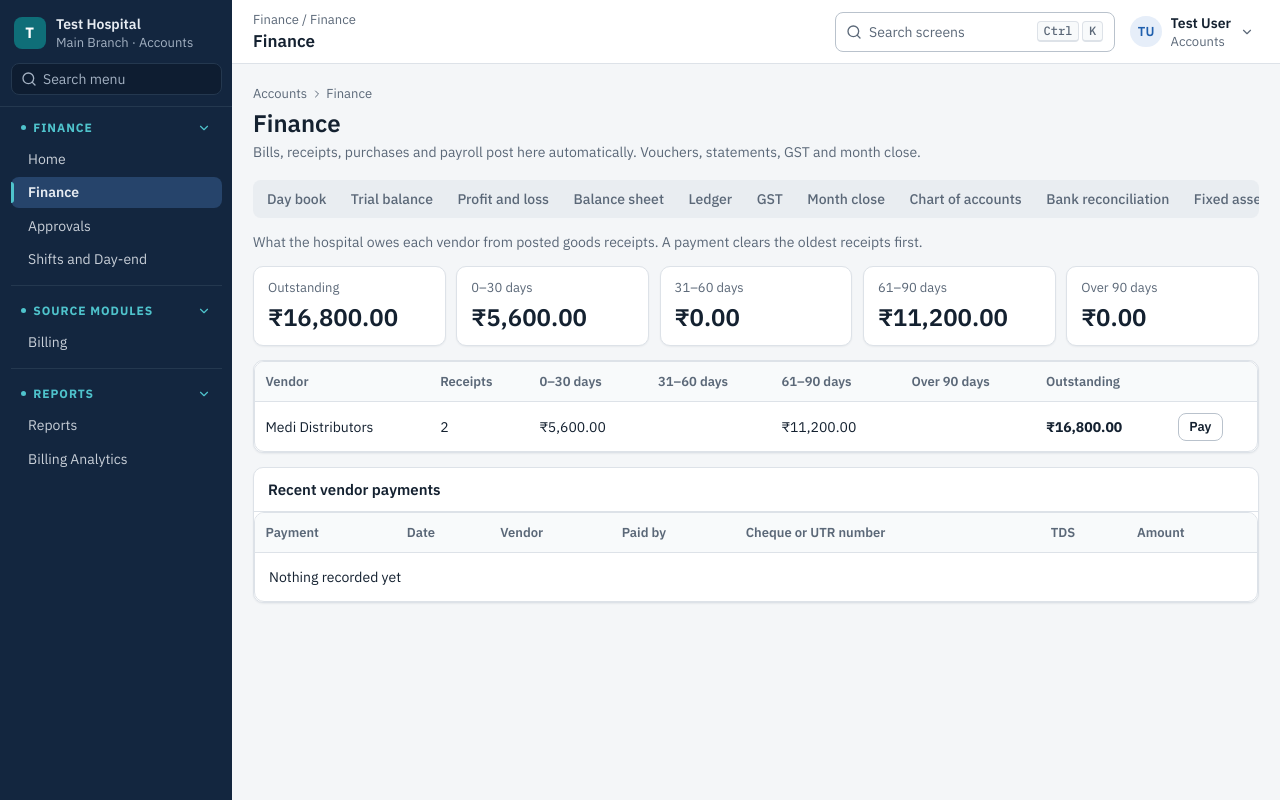
Test: Finance sub-ledgers › shows aged payables and pays a vendor
The width and height of the screenshot is (1280, 800).
Expected: the text "Medi Distributors" is shown, [255, 402, 430, 451]
Click the button "Pay" at [1200, 426], box [1178, 412, 1223, 440]
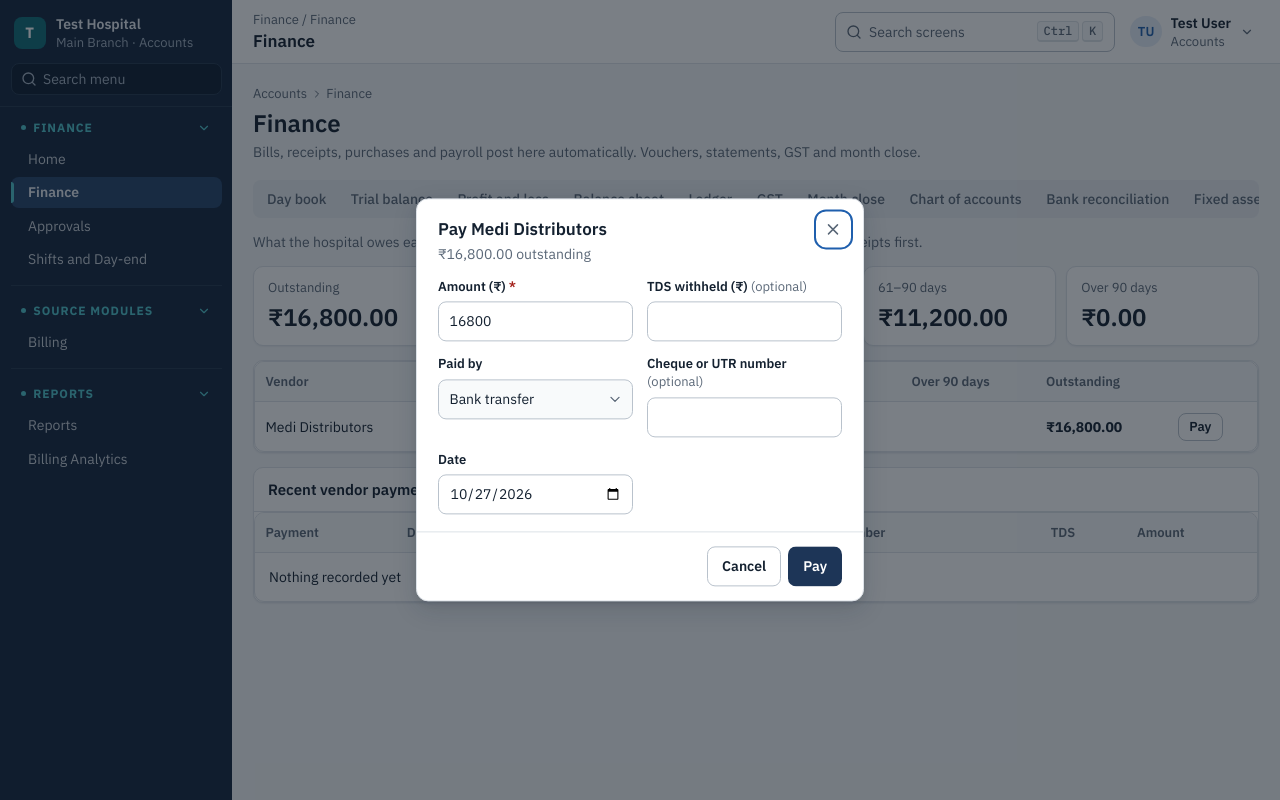
Replace the text in the field labelled "Amount (₹) *" with "12000" at [536, 322], box [438, 302, 633, 342]
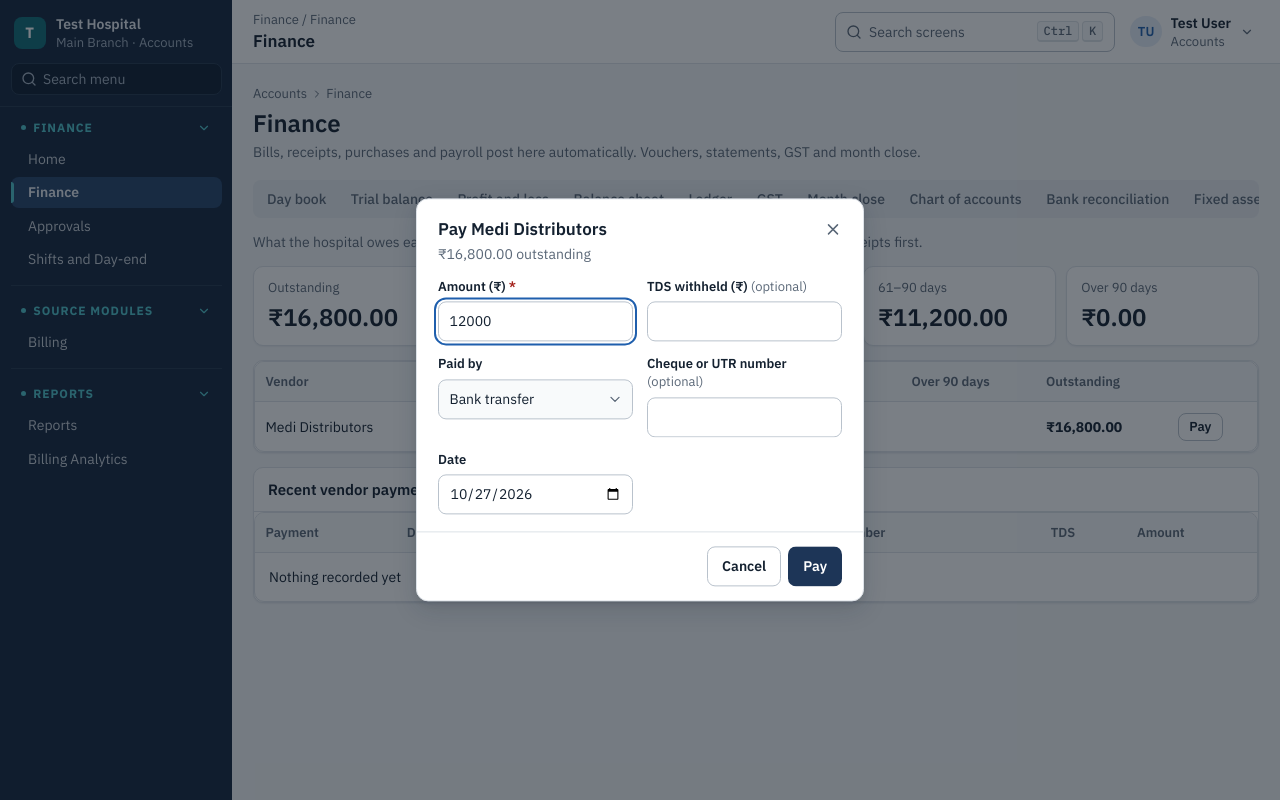
Type "200" into the field labelled "TDS withheld (₹) (optional)" at [744, 322], box [647, 302, 842, 342]
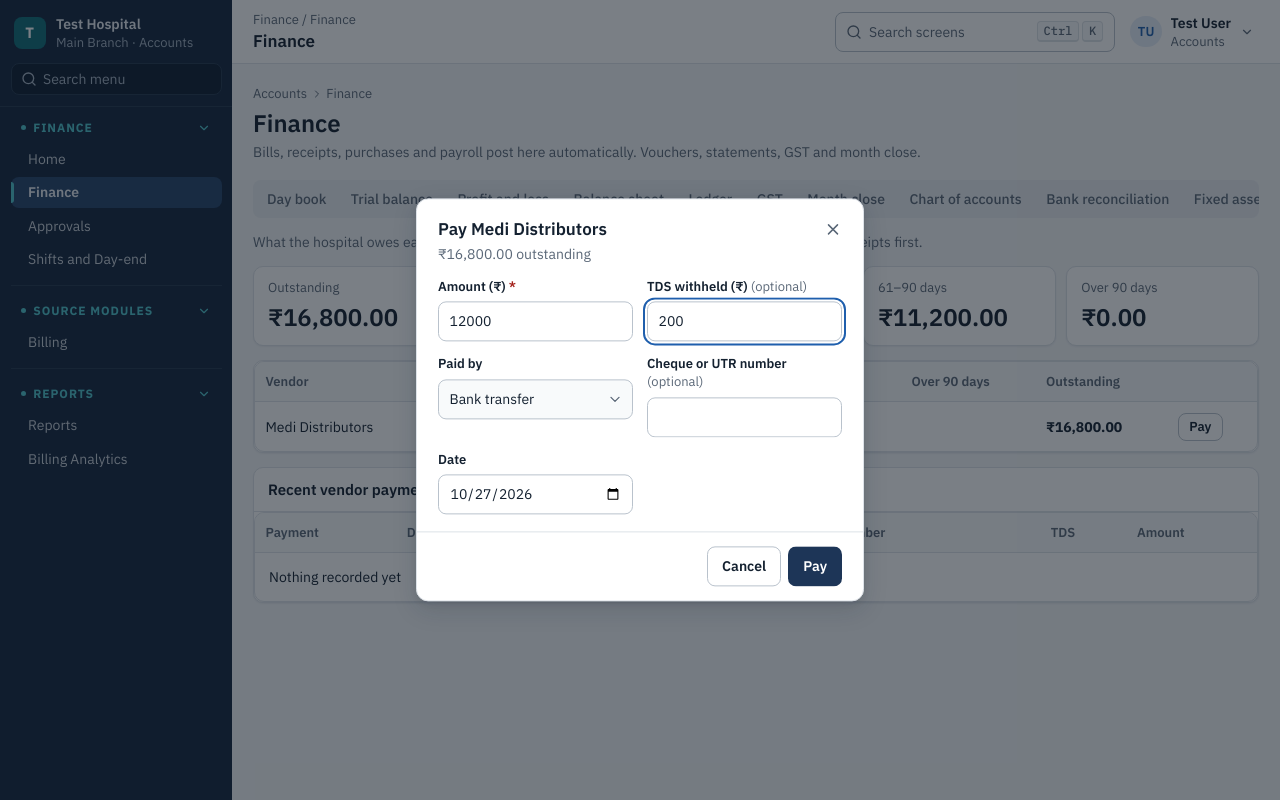
Click the button "Pay" at [815, 567], box [788, 547, 842, 587]
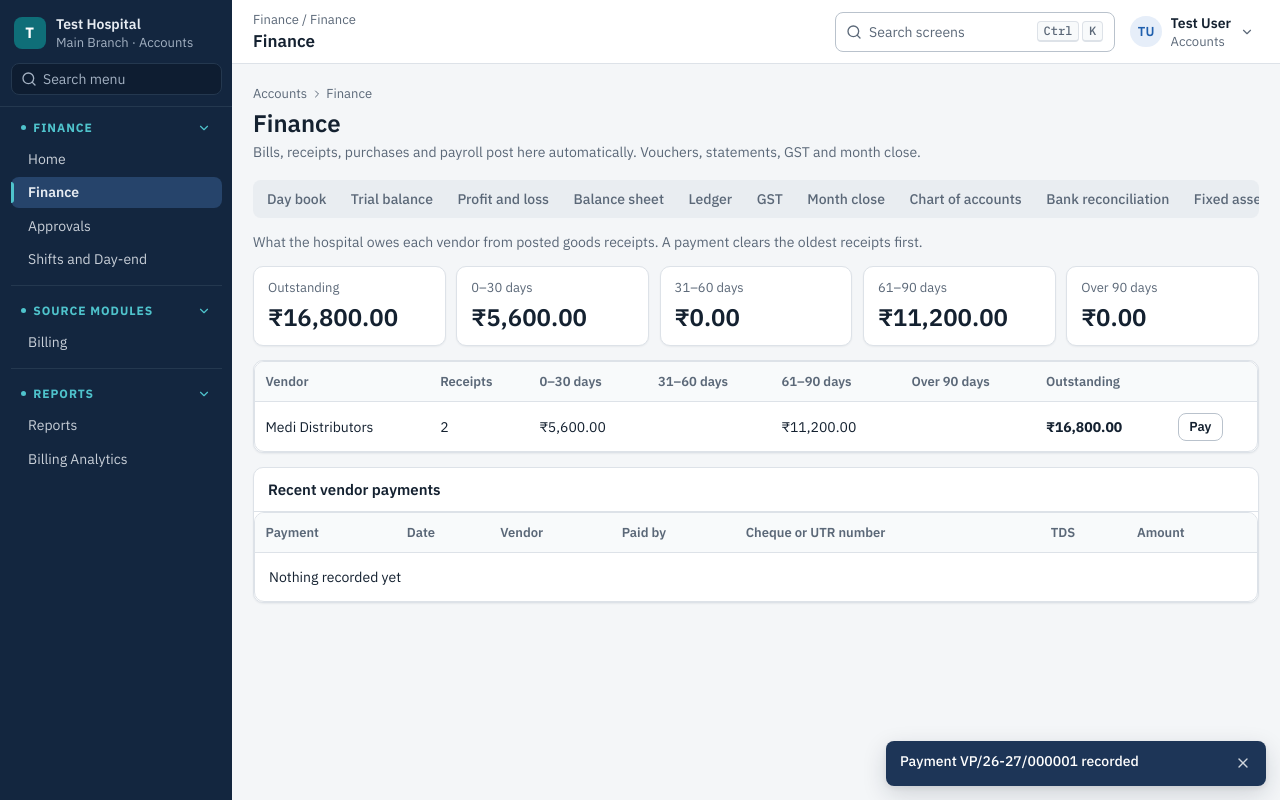
Expected: the text "Payment VP/26-27/000001 recorded" is shown, [900, 752, 1139, 770]
